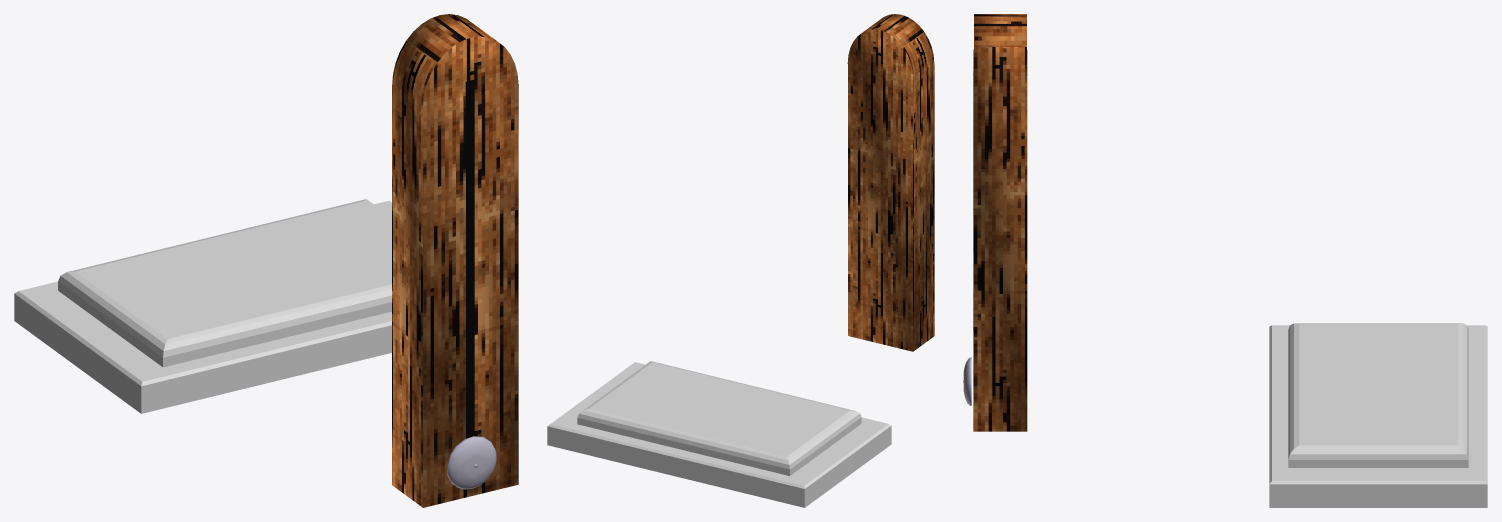
File: Balance.fbx
The picture shows the model from 3 angles, left to right: view 1: azimuth 30°, elevation 25°; view 2: azimuth 150°, elevation 25°; view 3: azimuth 270°, elevation 25°; orthographic projection. The views are drawn at different scales.
Parts seen in each view (by area): view 1: Cube.002, Cube.001, Cube.003, Plane, Sphere; view 2: Cube.002, Cube.001, Cube.003; view 3: Cube.001, Cube.002, Cube.003.
Part boxes in pixels (left/top/right/bottom): Cube.002: left=392, top=14, right=518, bottom=507; Cube.001: left=58, top=199, right=391, bottom=367; Cube.003: left=14, top=200, right=391, bottom=413; Plane: left=465, top=79, right=474, bottom=438; Sphere: left=446, top=436, right=496, bottom=489; Cube.002: left=847, top=14, right=934, bottom=351; Cube.001: left=577, top=361, right=861, bottom=475; Cube.003: left=547, top=362, right=891, bottom=507; Cube.001: left=1288, top=323, right=1468, bottom=467; Cube.002: left=973, top=14, right=1027, bottom=431; Cube.003: left=1269, top=325, right=1487, bottom=507.
Size of the model in its own units: 344 by 405 by 483.
